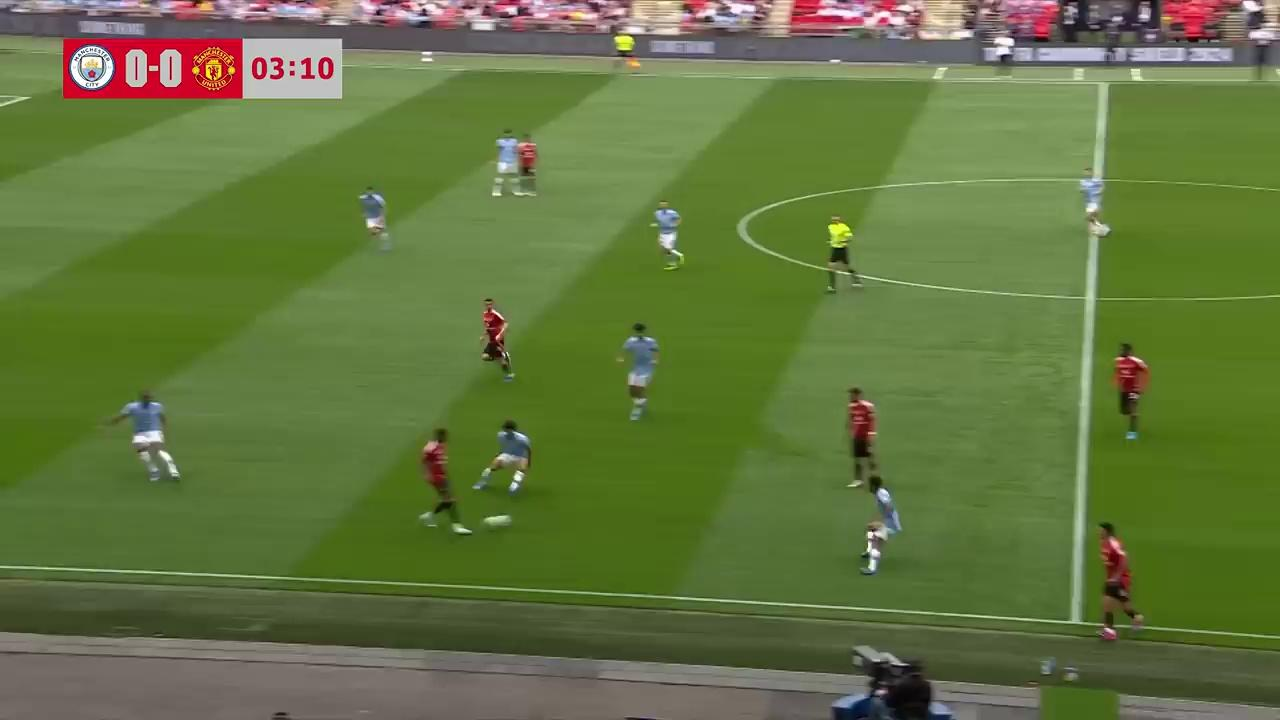ball: (481, 510, 514, 530)
player: (111, 390, 181, 482), (1096, 521, 1144, 637), (417, 428, 471, 529), (472, 418, 532, 494), (857, 477, 902, 575), (616, 321, 660, 419), (1111, 342, 1149, 443), (845, 387, 878, 489), (478, 297, 515, 381), (858, 478, 903, 545), (357, 185, 392, 252), (651, 200, 684, 270), (1079, 168, 1109, 236), (491, 129, 520, 198), (512, 133, 539, 198)
referee: (825, 214, 862, 292), (613, 27, 640, 74)
